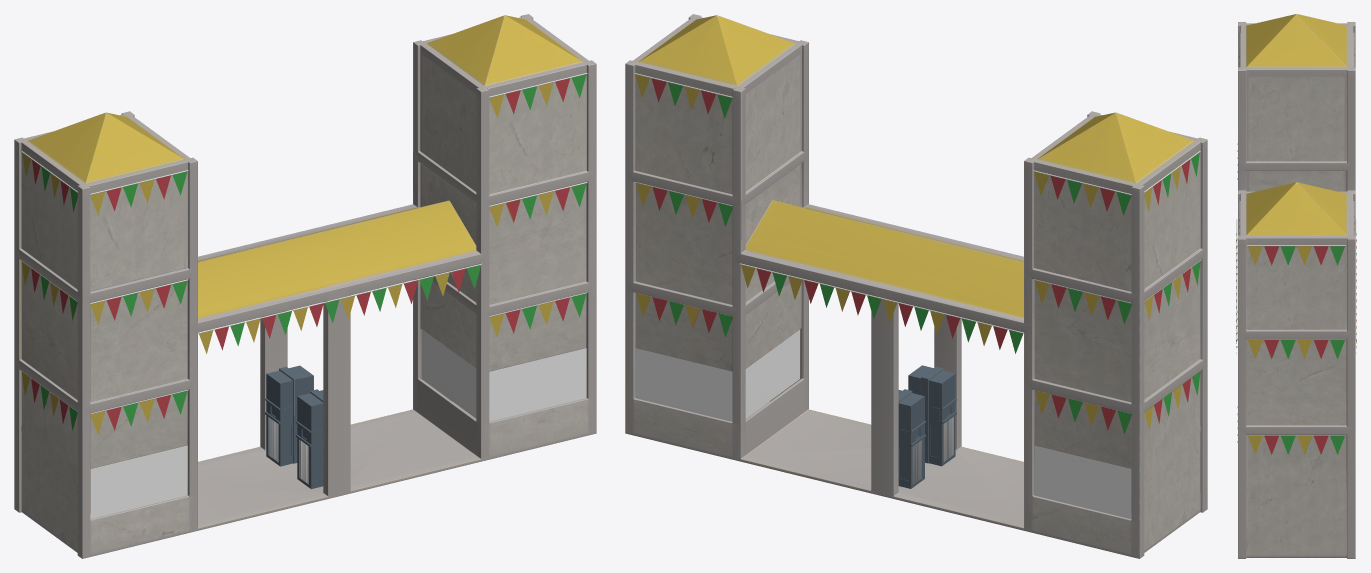
File: BUILDING_Entrance_1.fbx
The picture shows the model from 3 angles, left to right: view 1: azimuth 30°, elevation 25°; view 2: azimuth 150°, elevation 25°; view 3: azimuth 270°, elevation 25°; orthographic projection. The views are drawn at different scales.
Visible parts, largest first — view 1: BUILDING_Entrance_1_Baked; view 2: BUILDING_Entrance_1_Baked; view 3: BUILDING_Entrance_1_Baked.
Part boxes in pixels (x1=…): BUILDING_Entrance_1_Baked: x1=14, y1=14, x2=596, y2=558; BUILDING_Entrance_1_Baked: x1=625, y1=14, x2=1207, y2=558; BUILDING_Entrance_1_Baked: x1=1236, y1=14, x2=1356, y2=558.
Size of the model in its own units: 192 by 145 by 45.26.
Materials: 1 (1 with a texture image).
